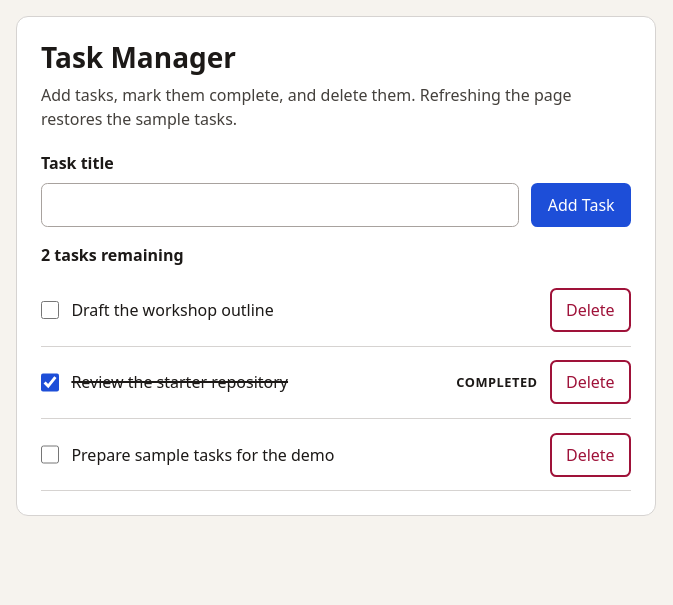
Task Manager › deletes only the chosen task when titles are duplicates
Type "Prepare sample tasks for the demo" into the field labelled "Task title".
click(280, 205); type("Prepare sample tasks for the demo")  # box [41,183,519,227]
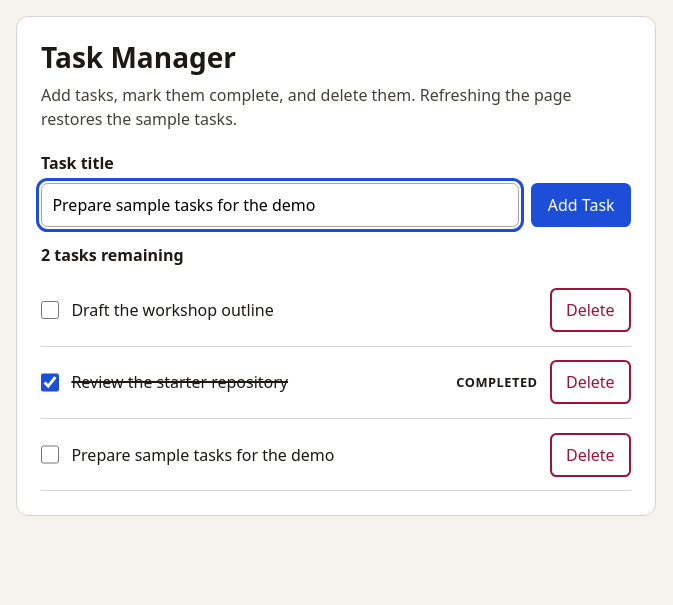
Click the button "Add Task".
click(581, 205)  # box [531,183,631,227]
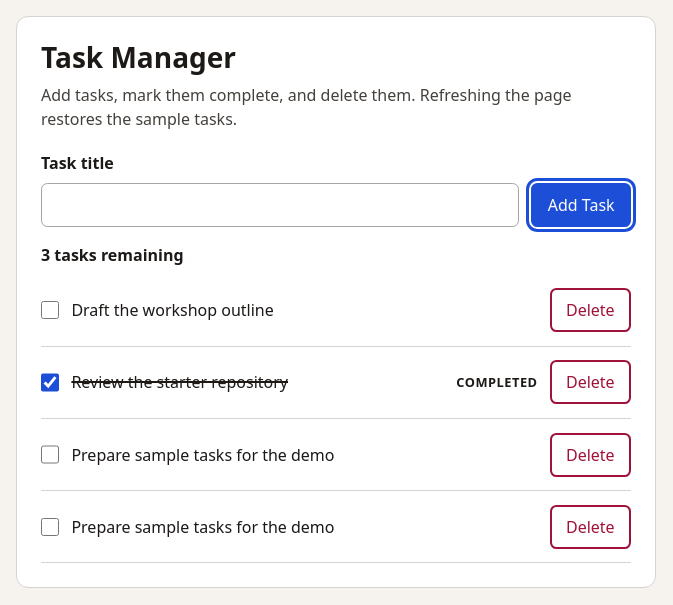
Click the button with aria-label "Delete Prepare sample tasks for the demo".
click(590, 455)  # box [550,433,631,477]
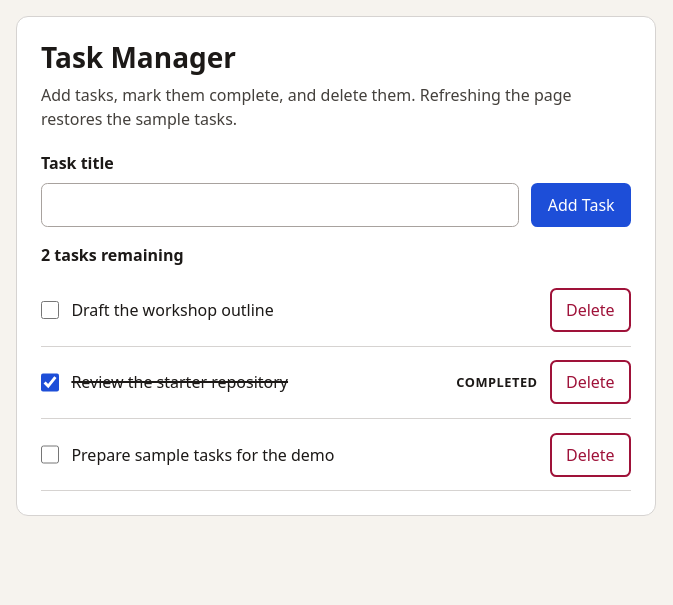
Expected: the text "Draft the workshop outline" is shown, [71,299,274,321]
Now the text "2 tasks remaining" is shown, box [41,244,184,266]
